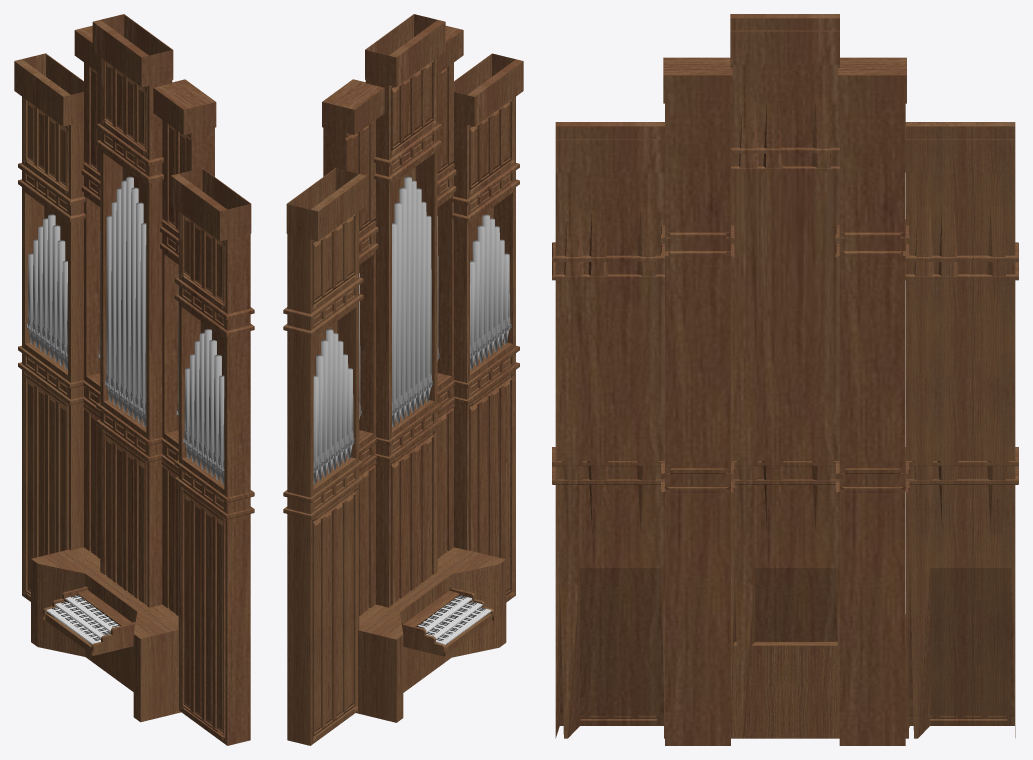
File: pipeorgan.glb
3 renders of one model, left to right at view 1: azimuth 30°, elevation 25°; view 2: azimuth 150°, elevation 25°; view 3: azimuth 270°, elevation 25°, orthographic. The views are drawn at different scales.
Visible parts, largest first — view 1: Cube.004, Cube.012, Cube.003, Cube.005, Cube.001, Cube.002, Cylinder.026, Cylinder.025, Cylinder.024, Cylinder.029, Cylinder.030, Cylinder.027 (+21 smaller); view 2: Cube.003, Cube.012, Cube.004, Cube.005, Cube.002, Cube.001, Cylinder.030, Cylinder.029, Cylinder.024, Cylinder.031, Cylinder.025, Cylinder.026 (+21 smaller); view 3: Cube.012, Cube.003, Cube.004, Cube.002, Cube.001, Cube.005.
Part boxes in pixels (x1,y1,x2,y2): Cube.004: (171,168,254,745); Cube.012: (92,14,173,607); Cube.003: (14,53,85,601); Cube.005: (31,547,180,722); Cube.001: (153,79,216,616); Cube.002: (74,25,100,558); Cylinder.026: (134,202,143,423); Cylinder.025: (129,187,138,419); Cylinder.024: (124,176,133,416); Cylinder.029: (119,180,127,412); Cylinder.030: (114,188,122,408); Cylinder.027: (139,223,146,426); Cube.003: (283,168,366,745); Cube.012: (365,14,445,607); Cube.004: (452,53,523,602); Cube.005: (356,547,506,722); Cube.002: (322,79,384,615); Cube.001: (437,25,463,558); Cylinder.030: (394,202,403,423); Cylinder.029: (399,187,408,419); Cylinder.024: (404,176,413,416); Cylinder.031: (392,223,398,426); Cylinder.025: (410,180,418,412); Cylinder.026: (415,188,423,408); Cube.012: (730,14,839,738); Cube.003: (902,122,1018,738); Cube.004: (552,122,668,738); Cube.002: (835,57,909,745); Cube.001: (661,57,734,745); Cube.005: (664,614,908,738).
Bounding box in the file's own units: 6.32 × 40.48 × 24.11.
8 materials, 5 textured.
